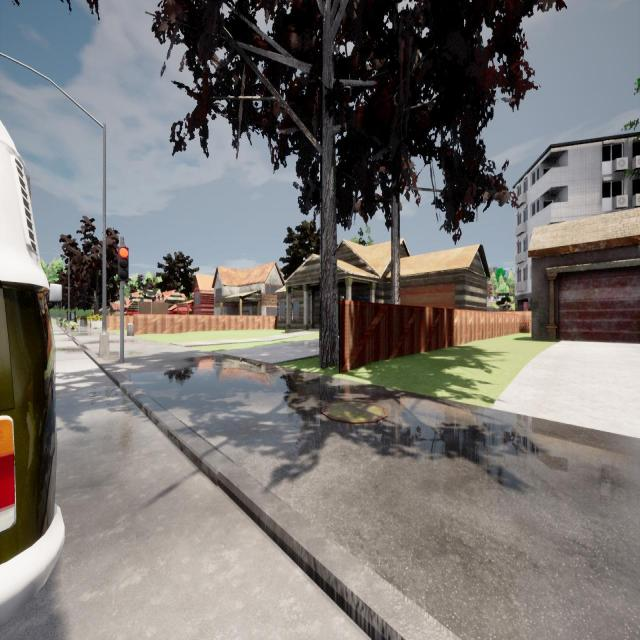Vehicle: (0, 118, 66, 623)
traffic_light: (118, 246, 128, 282)
